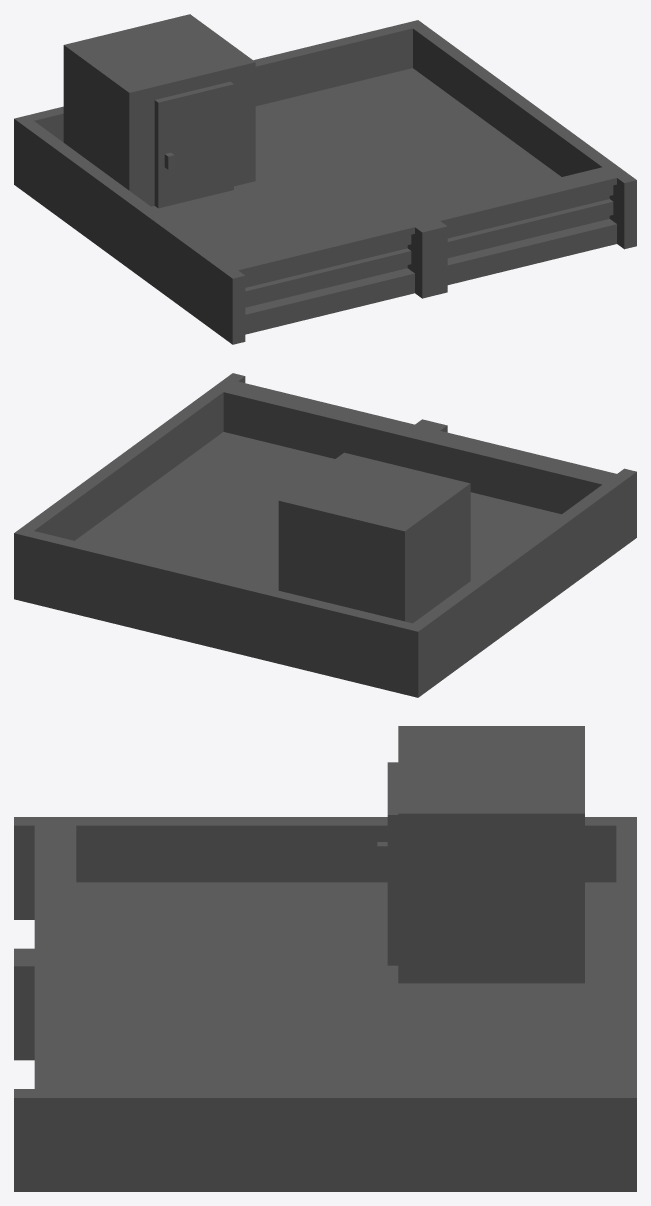
The model's file is bld_story04a.obj.
3 renders of one model, top to bottom at view 1: azimuth 30°, elevation 25°; view 2: azimuth 150°, elevation 25°; view 3: azimuth 270°, elevation 25°, orthographic. The views are drawn at different scales.
Bounding box in the file's own units: 64 × 22 × 60.
